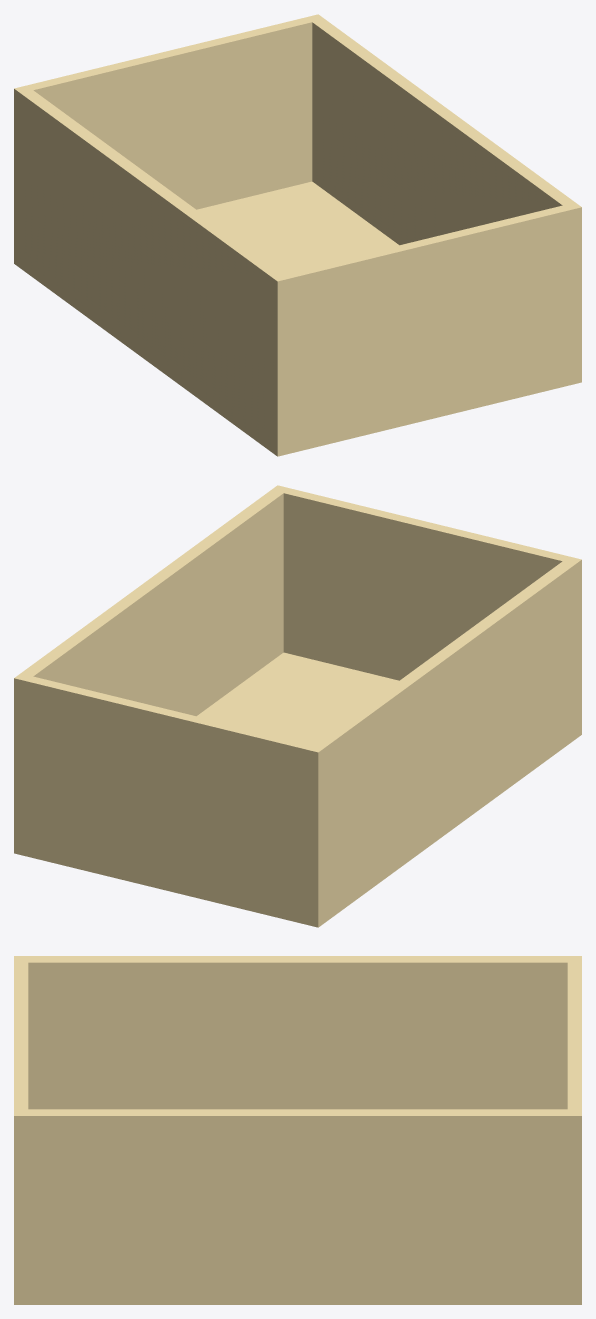
Rendered from Kitchen2.glb.
3 views of the same model, one above another, from view 1: azimuth 30°, elevation 25°; view 2: azimuth 150°, elevation 25°; view 3: azimuth 270°, elevation 25° (orthographic). The views are drawn at different scales.
Visible parts, largest first — view 1: Cube; view 2: Cube; view 3: Cube.
Part boxes in pixels (<box>): Cube: <box>14,14,581,456</box>; Cube: <box>14,485,581,927</box>; Cube: <box>14,956,581,1304</box>.
Bounding box in the file's own units: 20 × 11 × 30.
